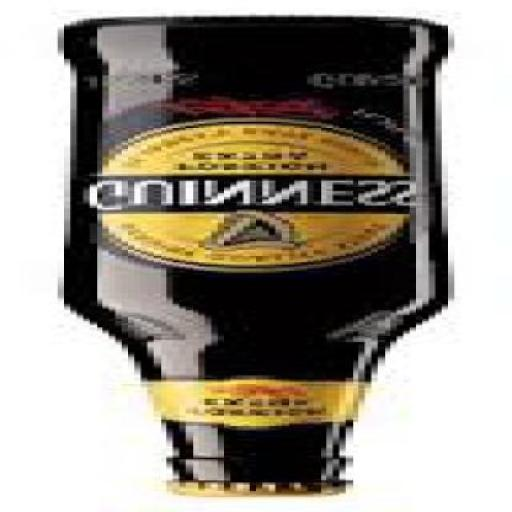glass: (58, 21, 448, 482)
metal: (153, 480, 339, 500)
